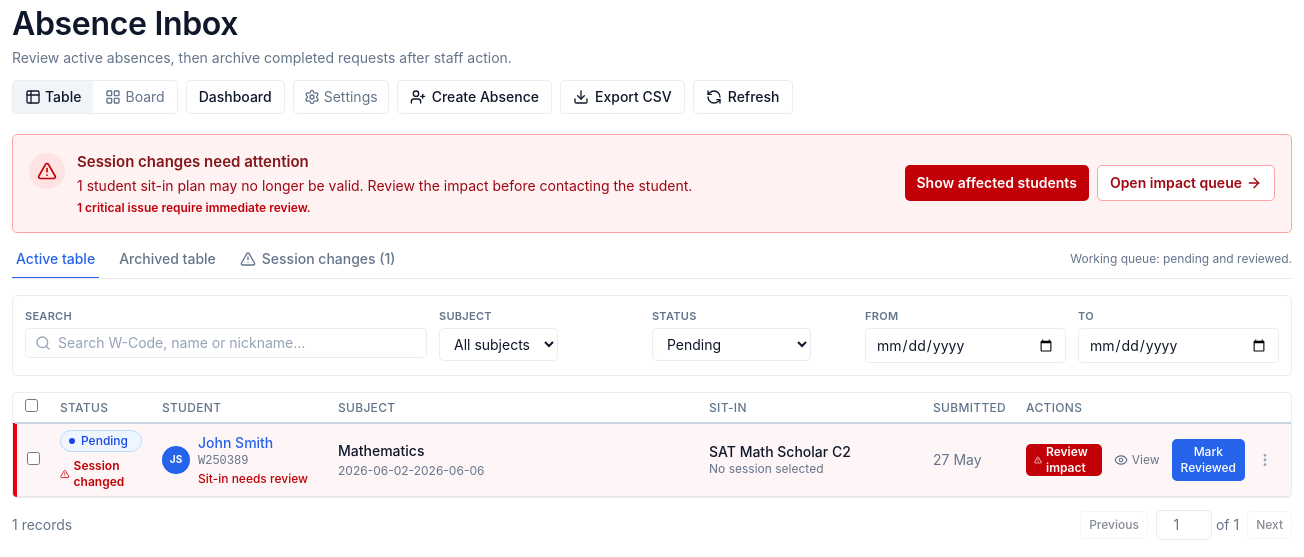
Scenario: Absence inbox › makes unresolved session-change impact clear and filters to affected students
Expected: the heading "Session changes need attention" is shown, [77, 152, 309, 171]
Expected: the text "1 student sit-in plan may no longer be valid. Review the impact before contacting the student." is shown, [77, 176, 692, 196]
What coordinates should you click on to do the following:
click the button "Show affected students"
I would click on:
 (997, 183)
Its box is [904, 165, 1089, 201].
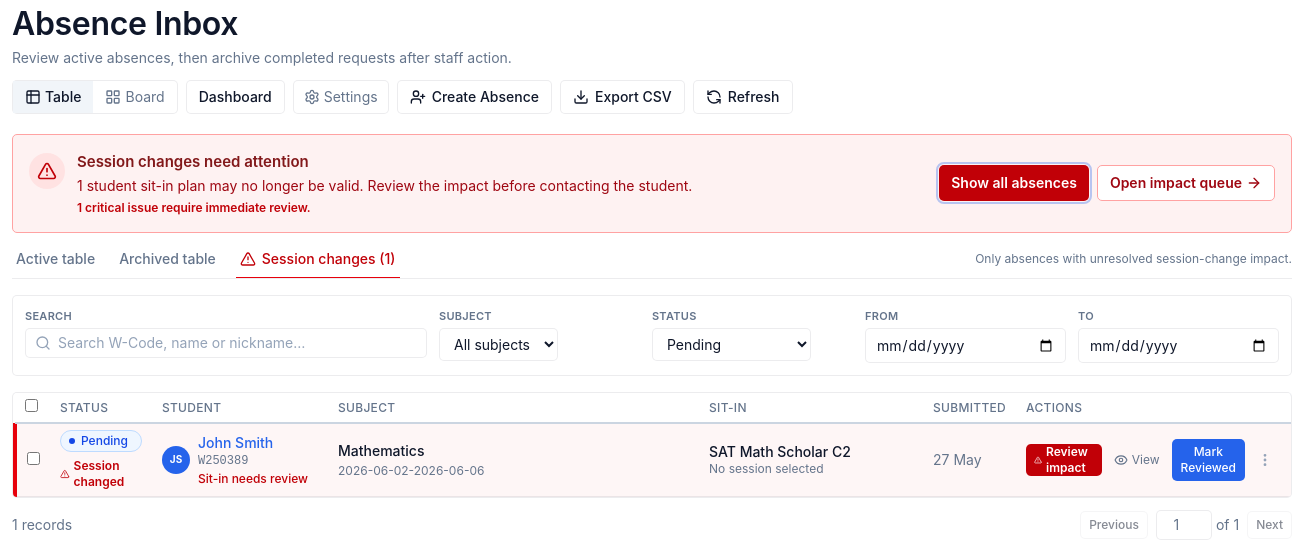
Expected: the button "Show all absences" is shown, [939, 165, 1089, 201]
